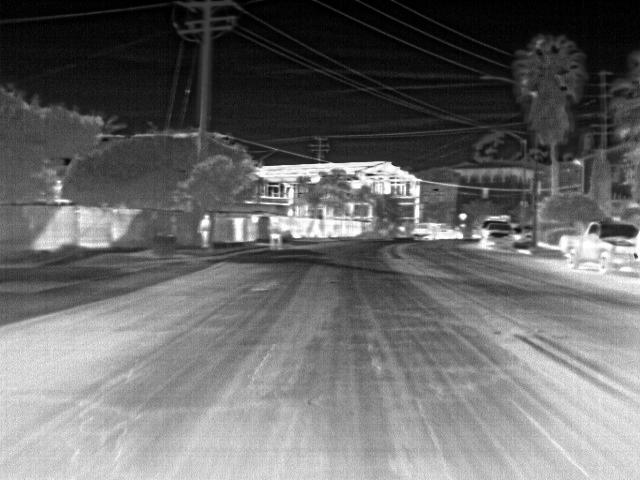car: (558, 220, 640, 276), (481, 220, 512, 252), (416, 223, 436, 240), (432, 223, 451, 239), (512, 225, 527, 244)
person: (198, 213, 213, 248), (269, 218, 284, 250)
